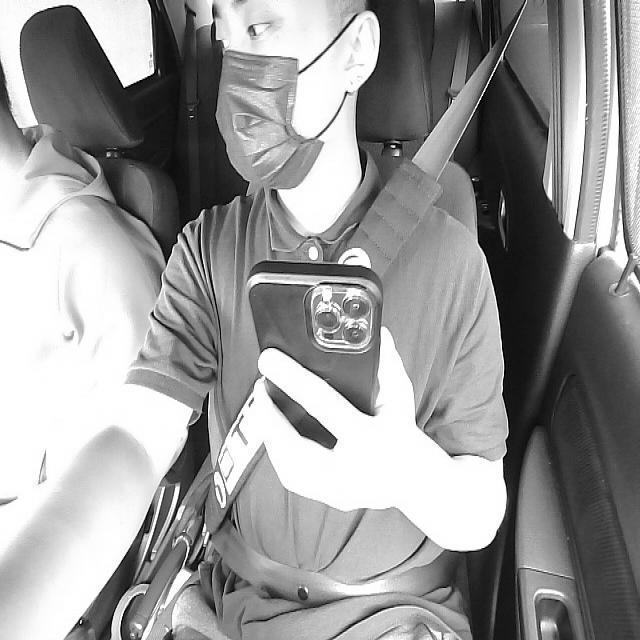phone: (251, 260, 381, 453)
